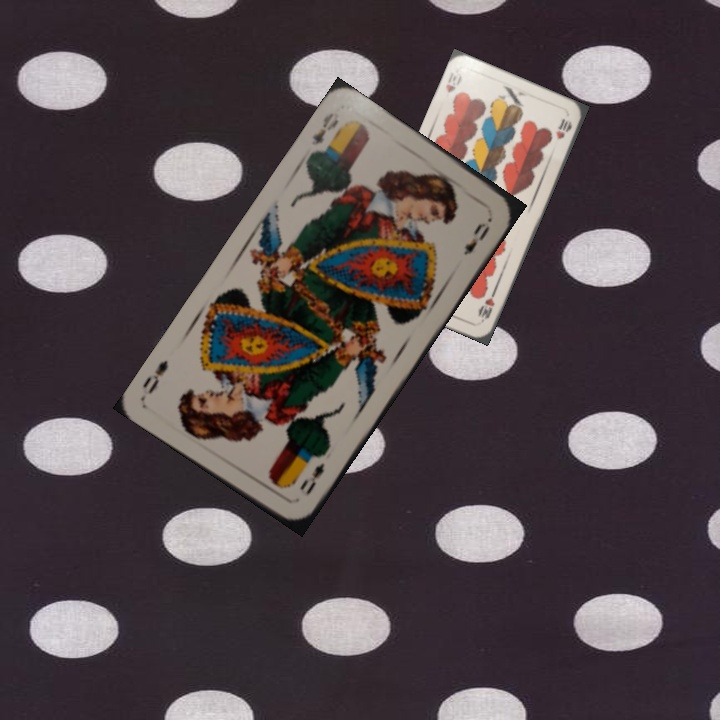EO: (307, 107, 342, 149), (295, 459, 328, 499)
H10: (474, 286, 499, 325), (441, 66, 465, 96)
